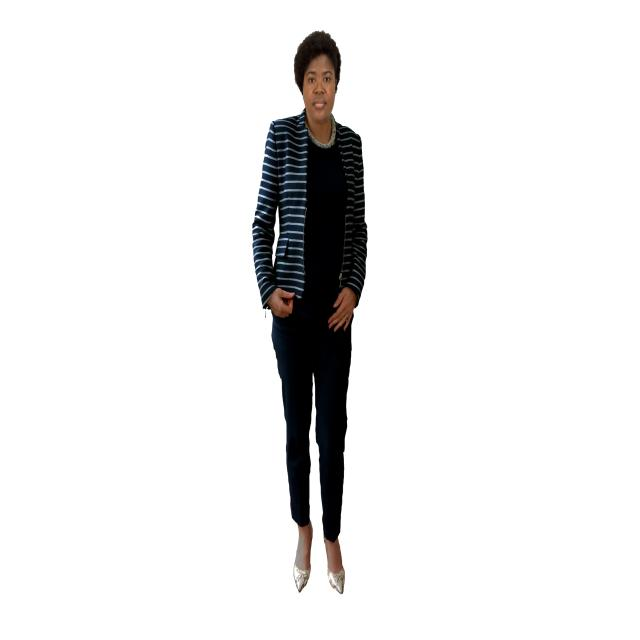jovem: (254, 21, 374, 620)
